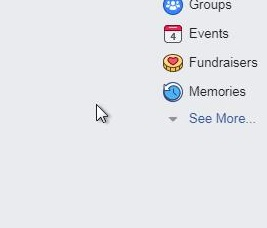cursor: (95, 103, 108, 123)
